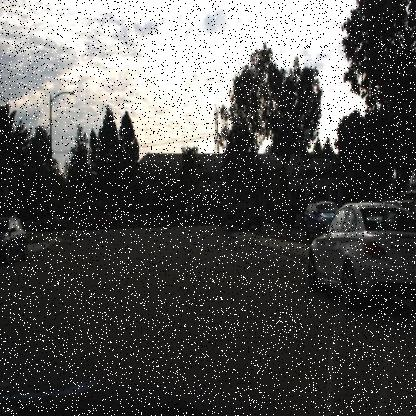car: (307, 202, 415, 316), (302, 198, 341, 242), (0, 214, 29, 267), (224, 203, 267, 236), (77, 205, 111, 234), (31, 212, 67, 235), (182, 200, 196, 221)
